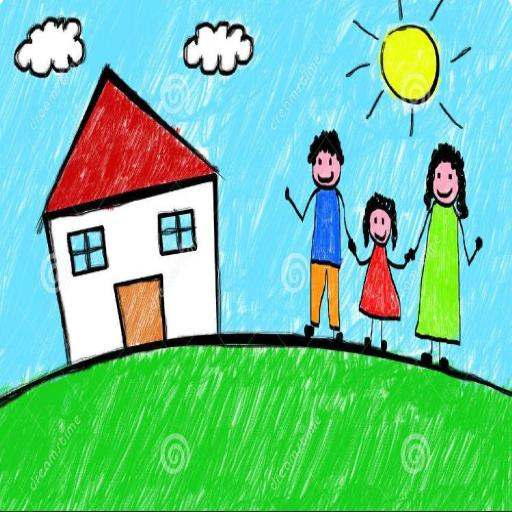person: (409, 141, 483, 366), (290, 122, 357, 342), (347, 192, 410, 339)
